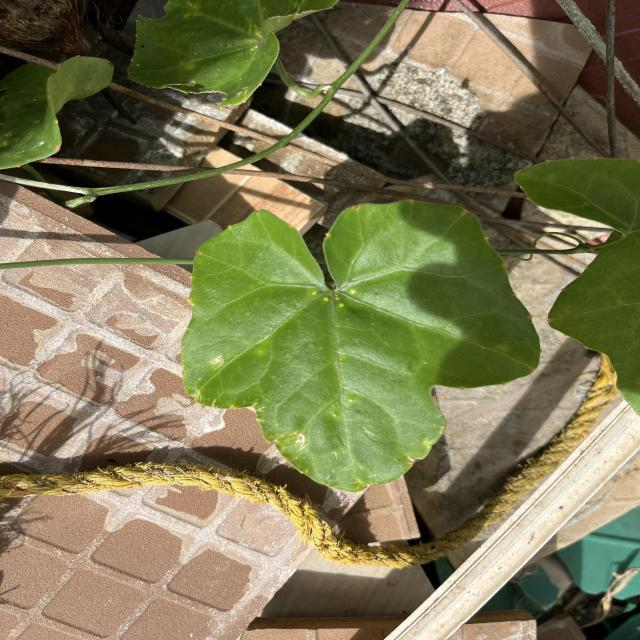Coccinia grandis: (180, 196, 546, 494)
